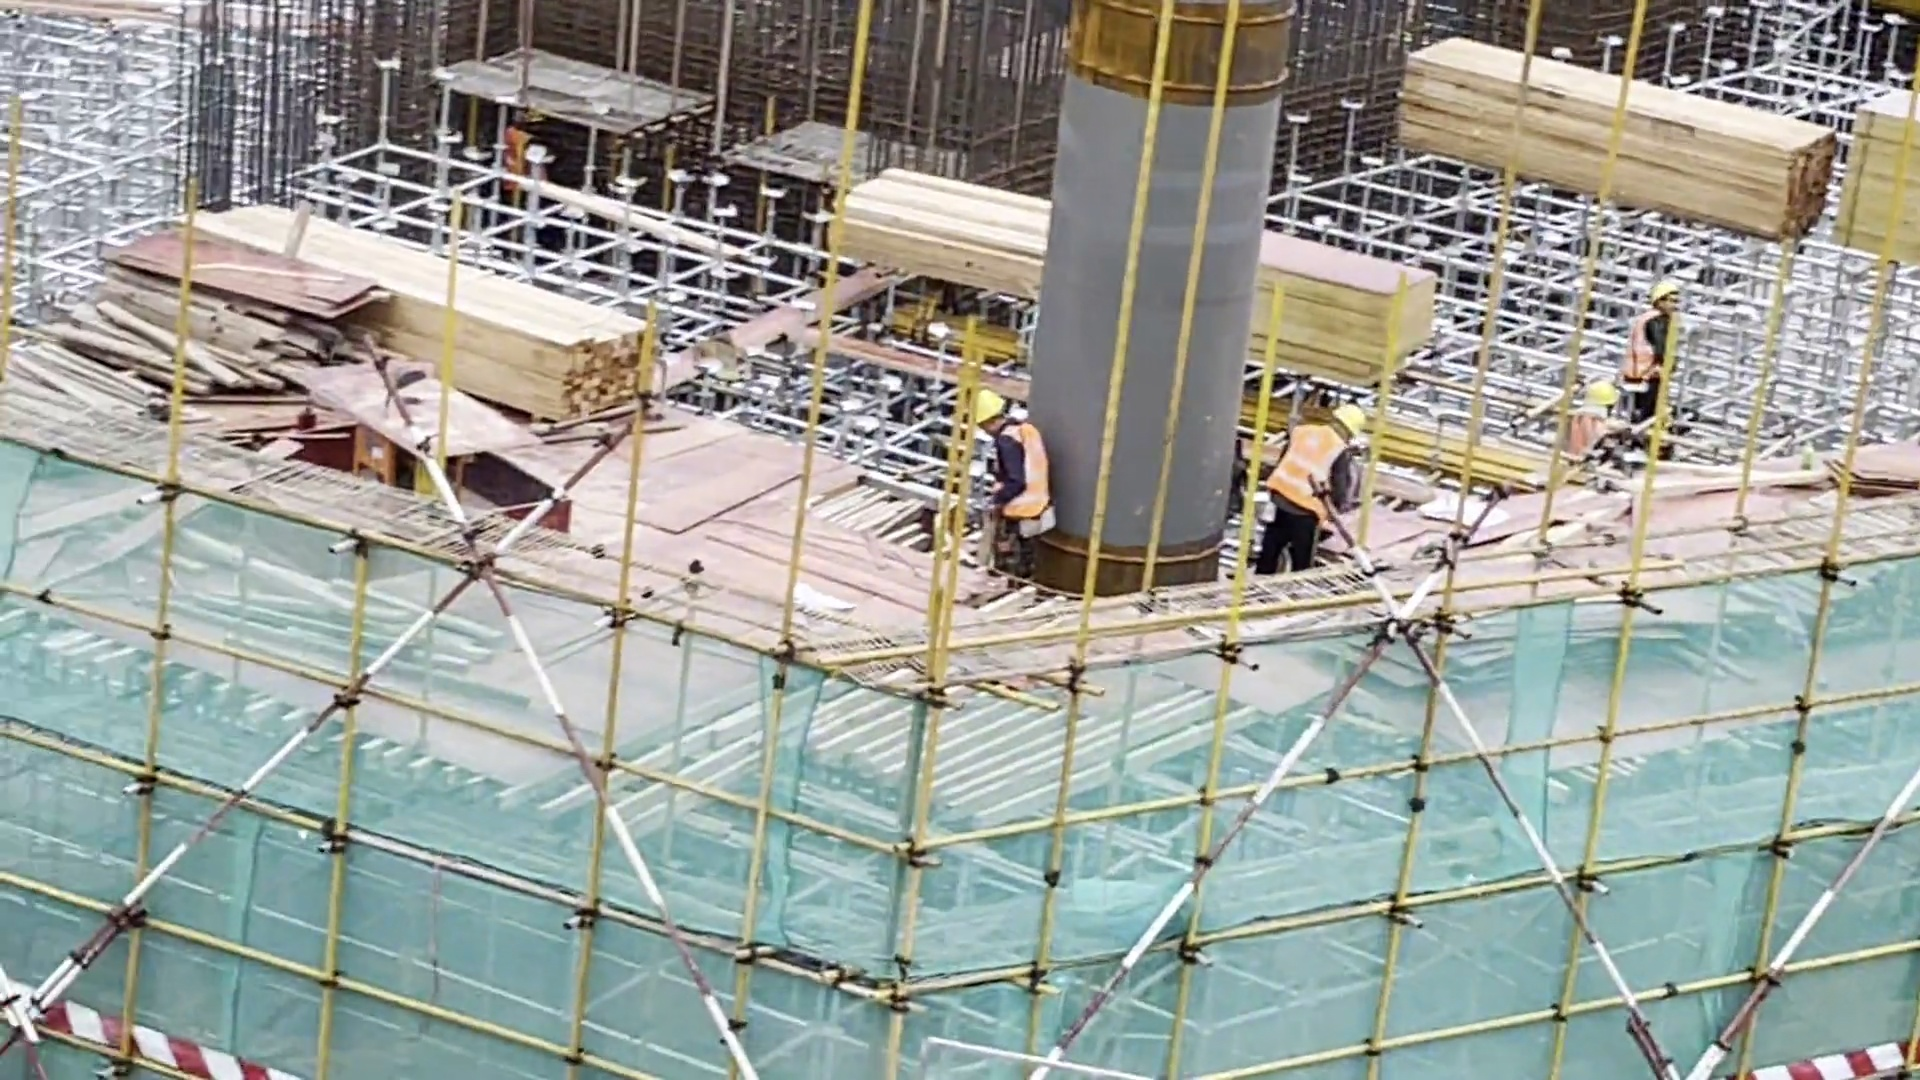helmet: (1628, 270, 1691, 315), (955, 393, 1011, 440), (1323, 394, 1374, 440), (1583, 373, 1620, 420)
person: (1255, 388, 1360, 568), (963, 387, 1058, 550), (1618, 277, 1689, 414)
vest: (1284, 419, 1349, 515), (991, 428, 1048, 504), (1626, 311, 1666, 377), (1574, 415, 1611, 470)
